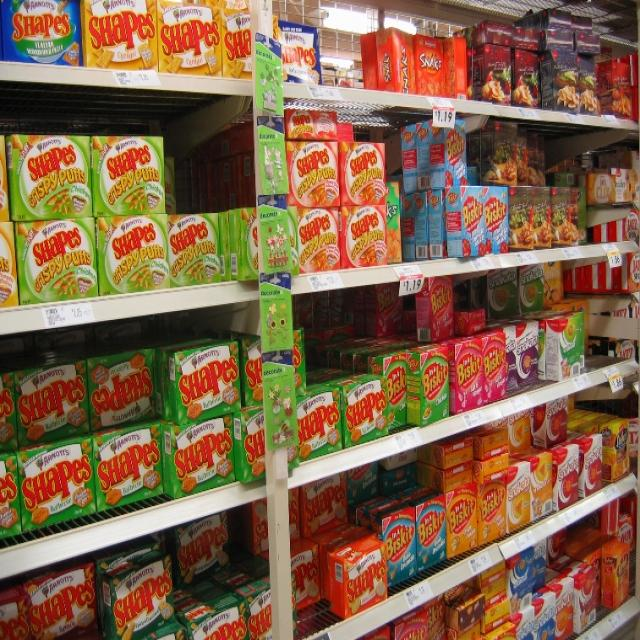q286: (416, 350, 453, 434), (375, 348, 411, 434)
